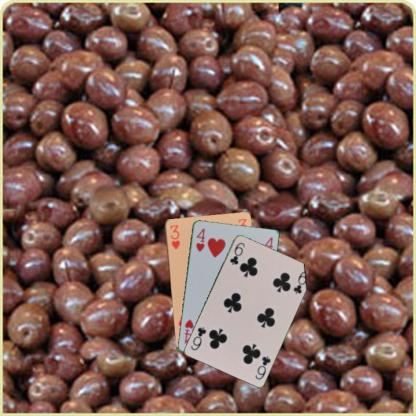3h: (167, 222, 181, 250)
4h: (193, 225, 206, 253)
6c: (252, 353, 272, 381), (227, 240, 246, 266)
